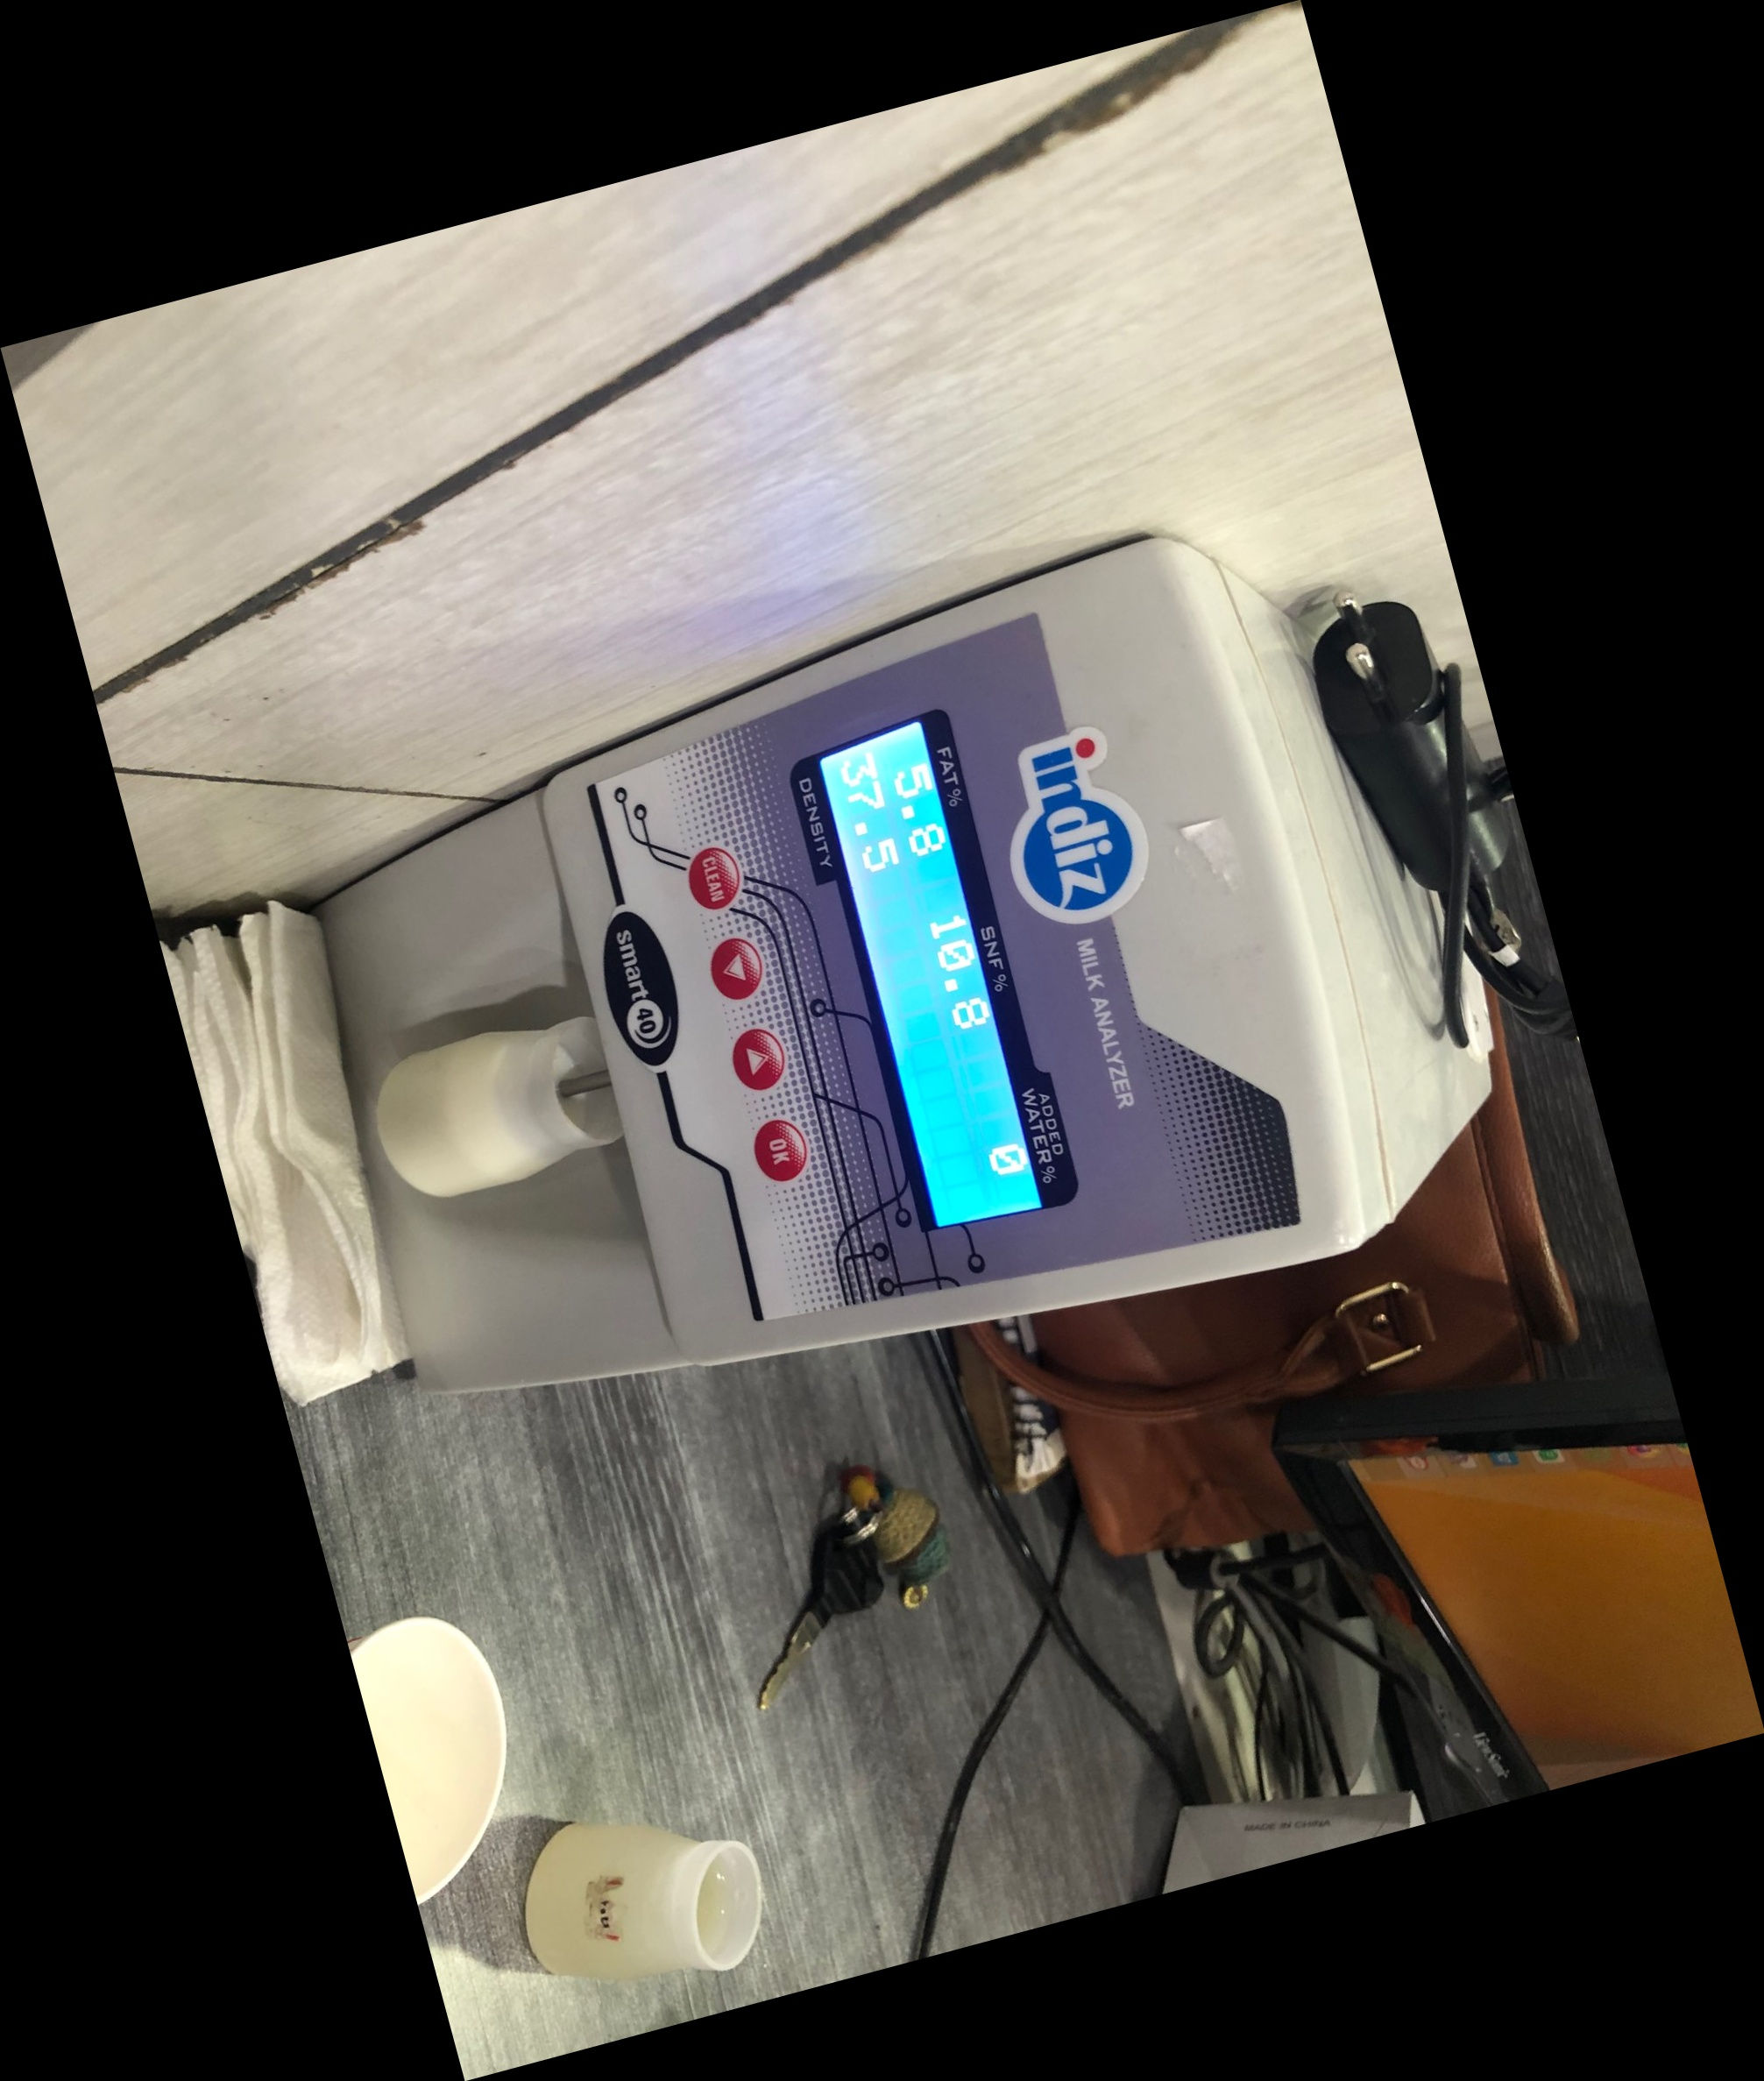lcd: (775, 697, 1087, 1264)
